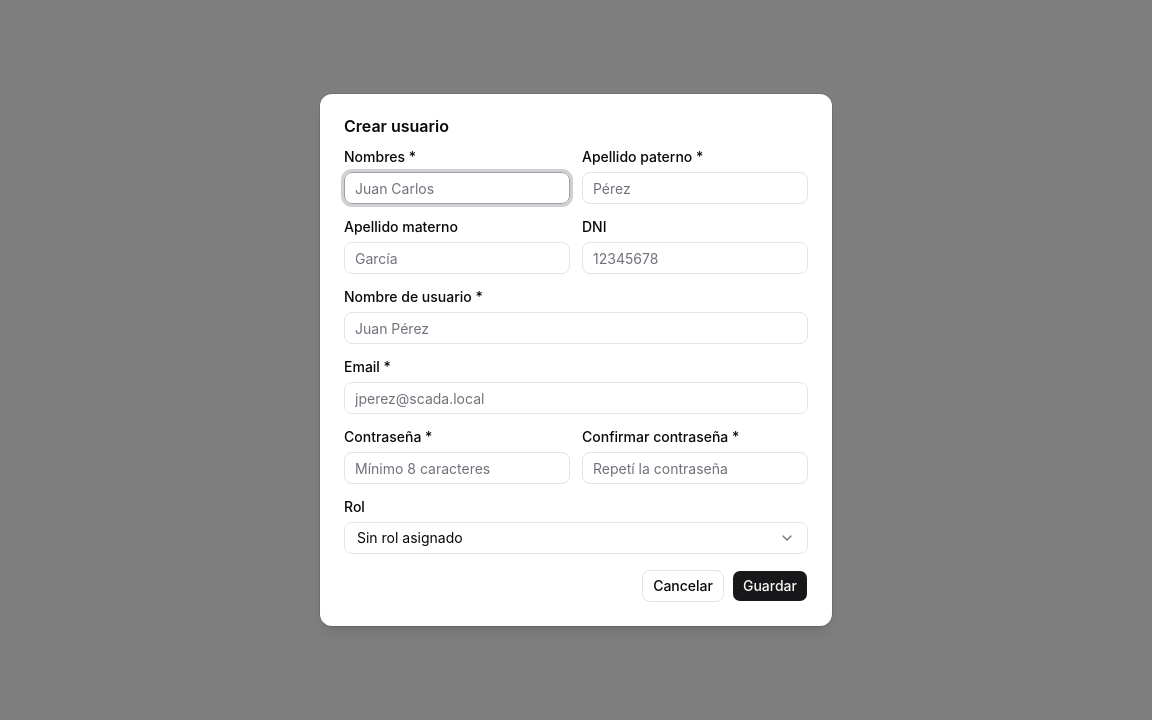
Test: FormularioUsuario — modo crear › muestra error cuando el email es inválido
Type "no-es-un-email" into the field with placeholder "jperez@scada.local".
click(576, 398); type("no-es-un-email")  # box [344, 382, 808, 414]
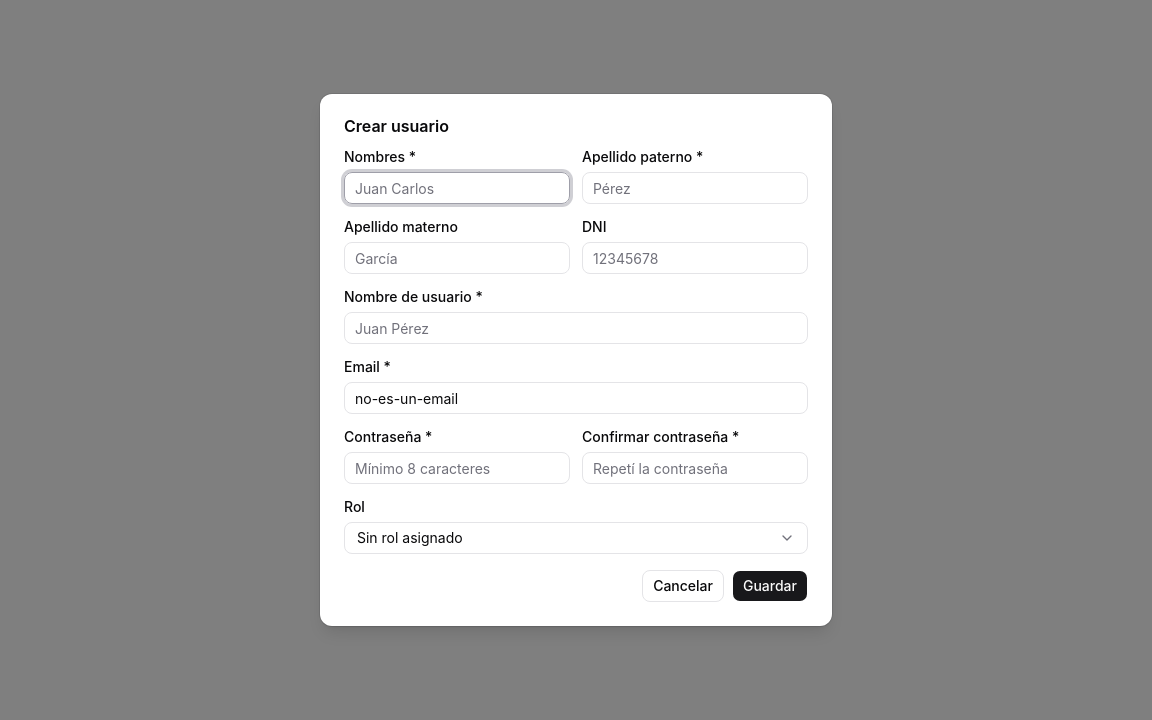
Click the button "Guardar".
click(770, 586)  # box [732, 570, 808, 602]
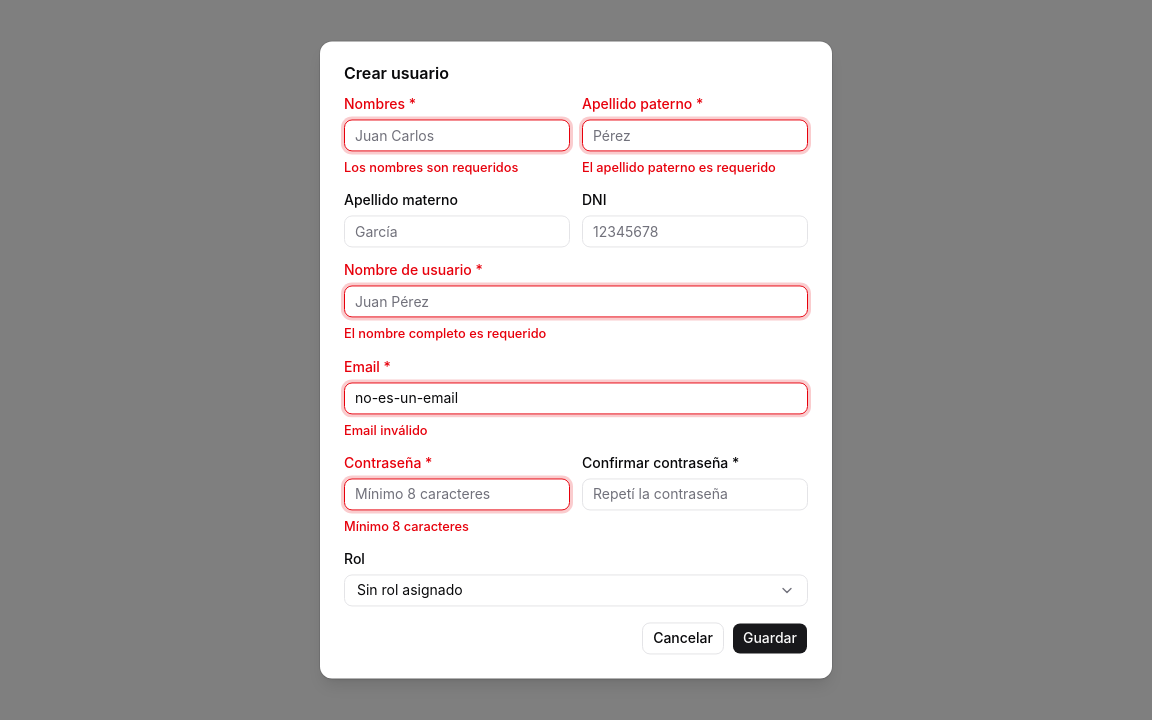
Check: the text "Email inválido" is shown, box [344, 423, 428, 438]
